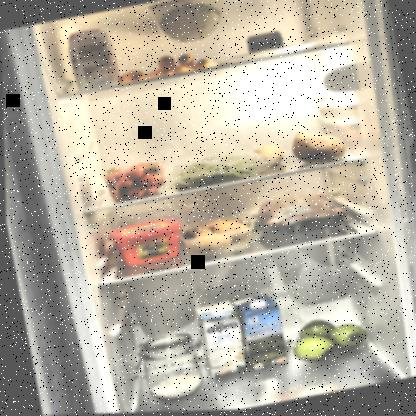apple: (285, 307, 374, 369)
butter: (104, 216, 186, 270)
carrot: (115, 45, 223, 87)
cheese: (242, 30, 287, 57)
chicken: (245, 185, 350, 244)
green_beans: (157, 144, 282, 195)
milk: (191, 299, 250, 382), (234, 291, 290, 374)
potato: (176, 207, 260, 262)
strawberries: (99, 157, 168, 205)
sweet_potato: (287, 122, 347, 168), (251, 140, 281, 166)
